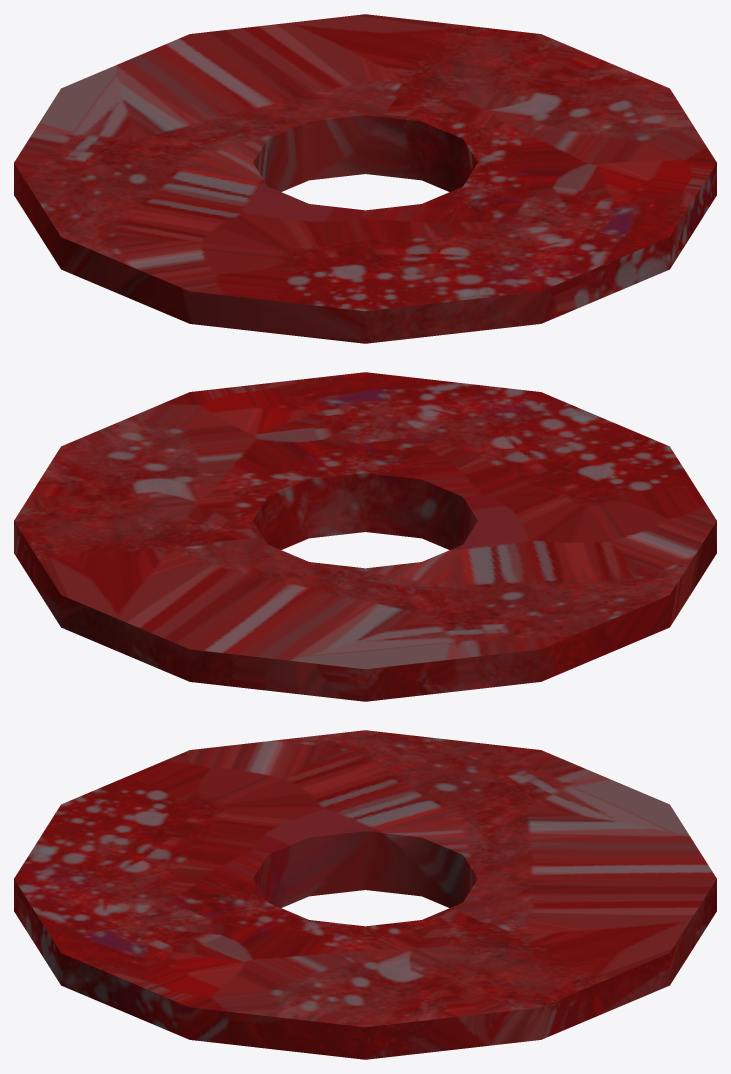
File: SM_Aeropress_CylinderBaseDown.fbx
3 renders of one model, top to bottom at view 1: azimuth 30°, elevation 25°; view 2: azimuth 150°, elevation 25°; view 3: azimuth 270°, elevation 25°, orthographic.
Parts seen in each view (by area): view 1: SM_Aeropress_CylinderBaseDown; view 2: SM_Aeropress_CylinderBaseDown; view 3: SM_Aeropress_CylinderBaseDown.
Boxes of the visible parts, box(x1,y1,x2,y2) form: SM_Aeropress_CylinderBaseDown: box(14, 14, 716, 343); SM_Aeropress_CylinderBaseDown: box(14, 372, 716, 701); SM_Aeropress_CylinderBaseDown: box(14, 730, 716, 1059).
Size of the model in its own units: 331 by 30.54 by 331.
